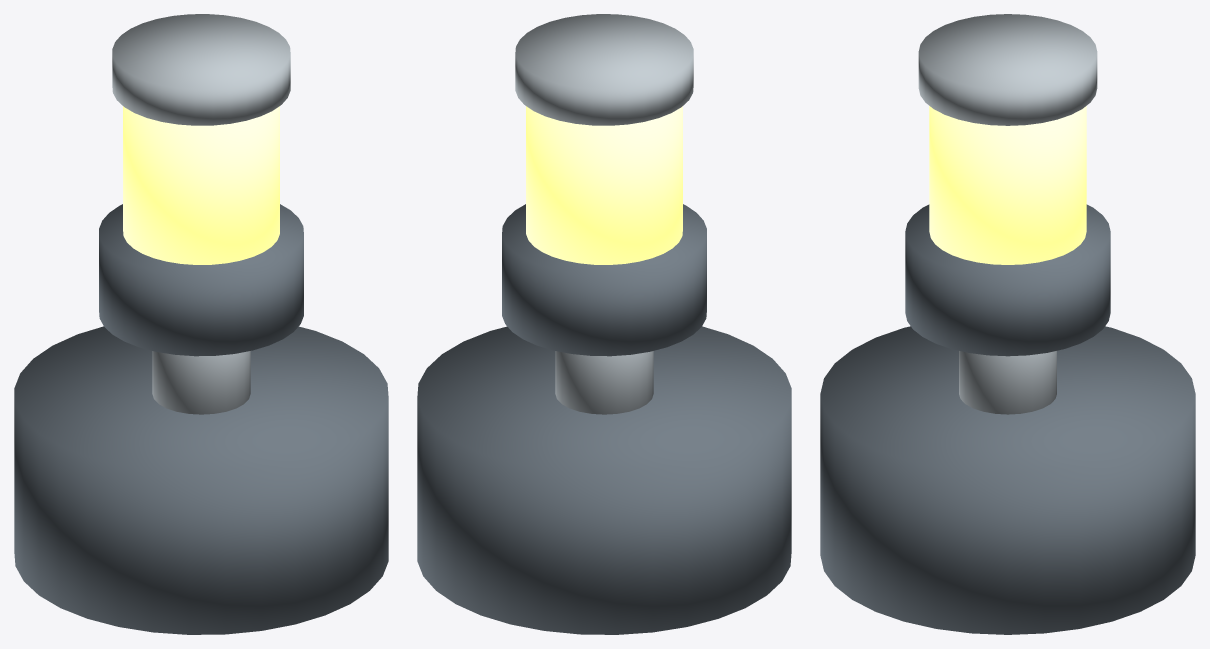
The model's file is status_light_ultra.glb.
3 renders of one model, left to right at view 1: azimuth 30°, elevation 25°; view 2: azimuth 150°, elevation 25°; view 3: azimuth 270°, elevation 25°, orthographic.
Visible parts, largest first — view 1: Base_dark, StatusLight_warn, Beacon_dark, Beacon_steel, Pole_steel; view 2: Base_dark, StatusLight_warn, Beacon_dark, Beacon_steel, Pole_steel; view 3: Base_dark, StatusLight_warn, Beacon_dark, Beacon_steel, Pole_steel.
Part boxes in pixels (x1,y1,x2,y2): Base_dark: [14, 326, 388, 634]; StatusLight_warn: [123, 106, 279, 264]; Beacon_dark: [99, 204, 303, 356]; Beacon_steel: [112, 14, 290, 125]; Pole_steel: [152, 351, 250, 414]; Base_dark: [417, 326, 791, 634]; StatusLight_warn: [526, 106, 682, 264]; Beacon_dark: [502, 204, 706, 356]; Beacon_steel: [515, 14, 693, 125]; Pole_steel: [555, 351, 653, 414]; Base_dark: [820, 326, 1195, 634]; StatusLight_warn: [929, 106, 1086, 264]; Beacon_dark: [905, 204, 1110, 356]; Beacon_steel: [918, 14, 1097, 125]; Pole_steel: [959, 351, 1056, 414].
Bounding box in the file's own units: 0.42 × 0.6225 × 0.42.
